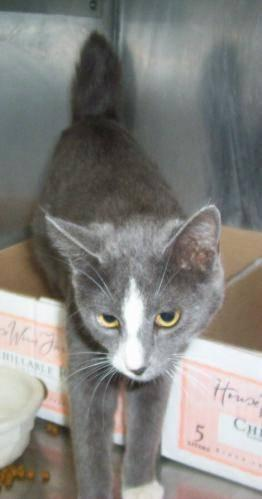cat: (33, 31, 222, 498)
